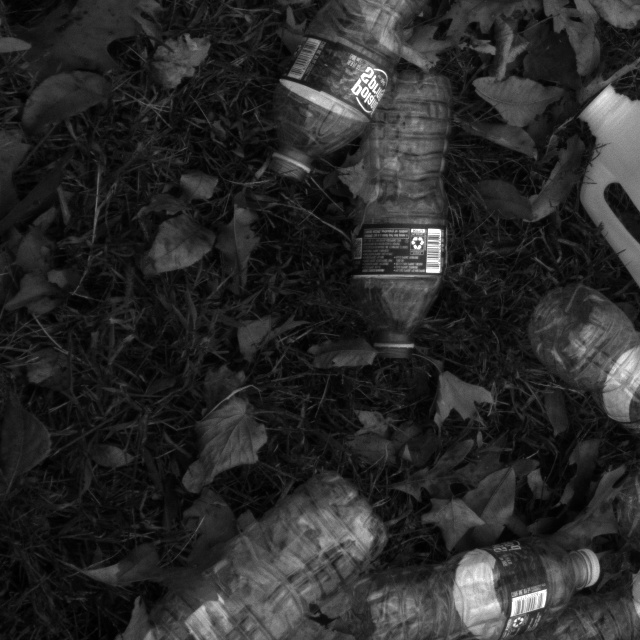bottle: (87, 472, 383, 640), (256, 0, 455, 179), (341, 68, 462, 351), (357, 530, 607, 640), (523, 283, 640, 444), (513, 537, 640, 640)
can: (570, 86, 640, 388)
